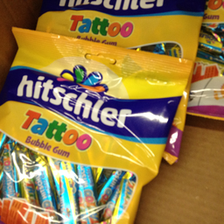candy: (2, 28, 180, 224)
